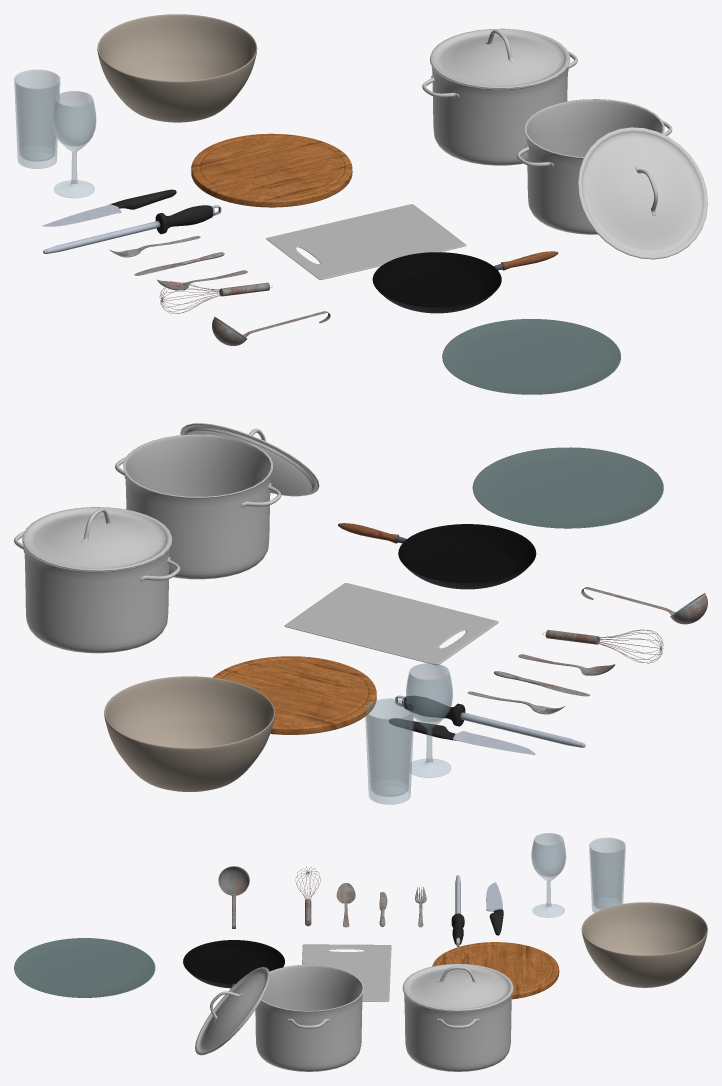
3 renders of one model, top to bottom at view 1: azimuth 30°, elevation 25°; view 2: azimuth 150°, elevation 25°; view 3: azimuth 270°, elevation 25°, orthographic. The views are drawn at different scales.
Parts seen in each view (by area): view 1: Pot_01_Top (×2), Pot_01 (×2), Bowl, Plade, Cutboard_Wood, Cutboard_Plastic, Pan_01, Glas_Standard, Glas_Wine, Knife_Sharpener, Knife_Large, Whisk (+1 smaller); view 2: Pot_01 (×2), Bowl, Plade, Pot_01_Top (×2), Cutboard_Plastic, Cutboard_Wood, Pan_01, Glas_Standard, Glas_Wine, Knife_Sharpener, Knife_Large, Whisk (+1 smaller); view 3: Pot_01 (×2), Bowl, Pot_01_Top (×2), Plade, Cutboard_Wood, Pan_01, Cutboard_Plastic, Glas_Standard, Glas_Wine, Ladle, Knife_Large, Knife_Sharpener (+2 smaller).
Boxes of the visible parts, box(x1,y1,x2,y2) form: Pot_01_Top (×2): box(430, 28, 707, 259); Pot_01 (×2): box(422, 51, 672, 234); Bowl: box(97, 14, 257, 122); Plade: box(442, 319, 620, 394); Cutboard_Wood: box(191, 133, 352, 207); Cutboard_Plastic: box(266, 204, 466, 279); Pan_01: box(372, 251, 558, 313); Glas_Standard: box(14, 70, 60, 168); Glas_Wine: box(52, 91, 95, 197); Knife_Sharpener: box(43, 205, 221, 253); Knife_Large: box(42, 189, 176, 226); Whisk: box(159, 282, 272, 313); Pot_01 (×2): box(14, 434, 281, 653); Bowl: box(104, 676, 274, 791); Plade: box(472, 447, 663, 528); Pot_01_Top (×2): box(22, 423, 319, 571); Cutboard_Plastic: box(284, 583, 498, 665); Cutboard_Wood: box(213, 656, 376, 734); Pan_01: box(338, 523, 536, 589); Glas_Standard: box(365, 698, 414, 804); Glas_Wine: box(406, 663, 452, 777); Knife_Sharpener: box(395, 695, 585, 747); Knife_Large: box(389, 718, 535, 754); Whisk: box(542, 629, 663, 663); Pot_01 (×2): box(255, 964, 513, 1071); Bowl: box(581, 902, 707, 987); Pot_01_Top (×2): box(195, 963, 513, 1055); Plade: box(14, 938, 155, 997); Cutboard_Wood: box(432, 942, 559, 999); Pan_01: box(183, 940, 284, 988); Cutboard_Plastic: box(302, 944, 391, 1001); Glas_Standard: box(589, 838, 625, 912); Glas_Wine: box(531, 833, 565, 917); Ladle: box(218, 866, 249, 928); Knife_Large: box(486, 882, 503, 935); Knife_Sharpener: box(451, 875, 464, 946).
Size of the model in its own units: 1.79 by 0.3827 by 2.57.
Materials: 10 (5 with a texture image).
